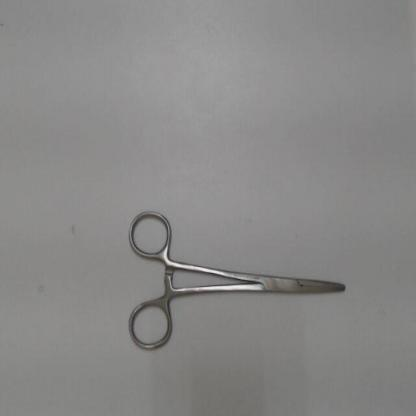Mayo Needle Holder: (121, 202, 357, 359)
